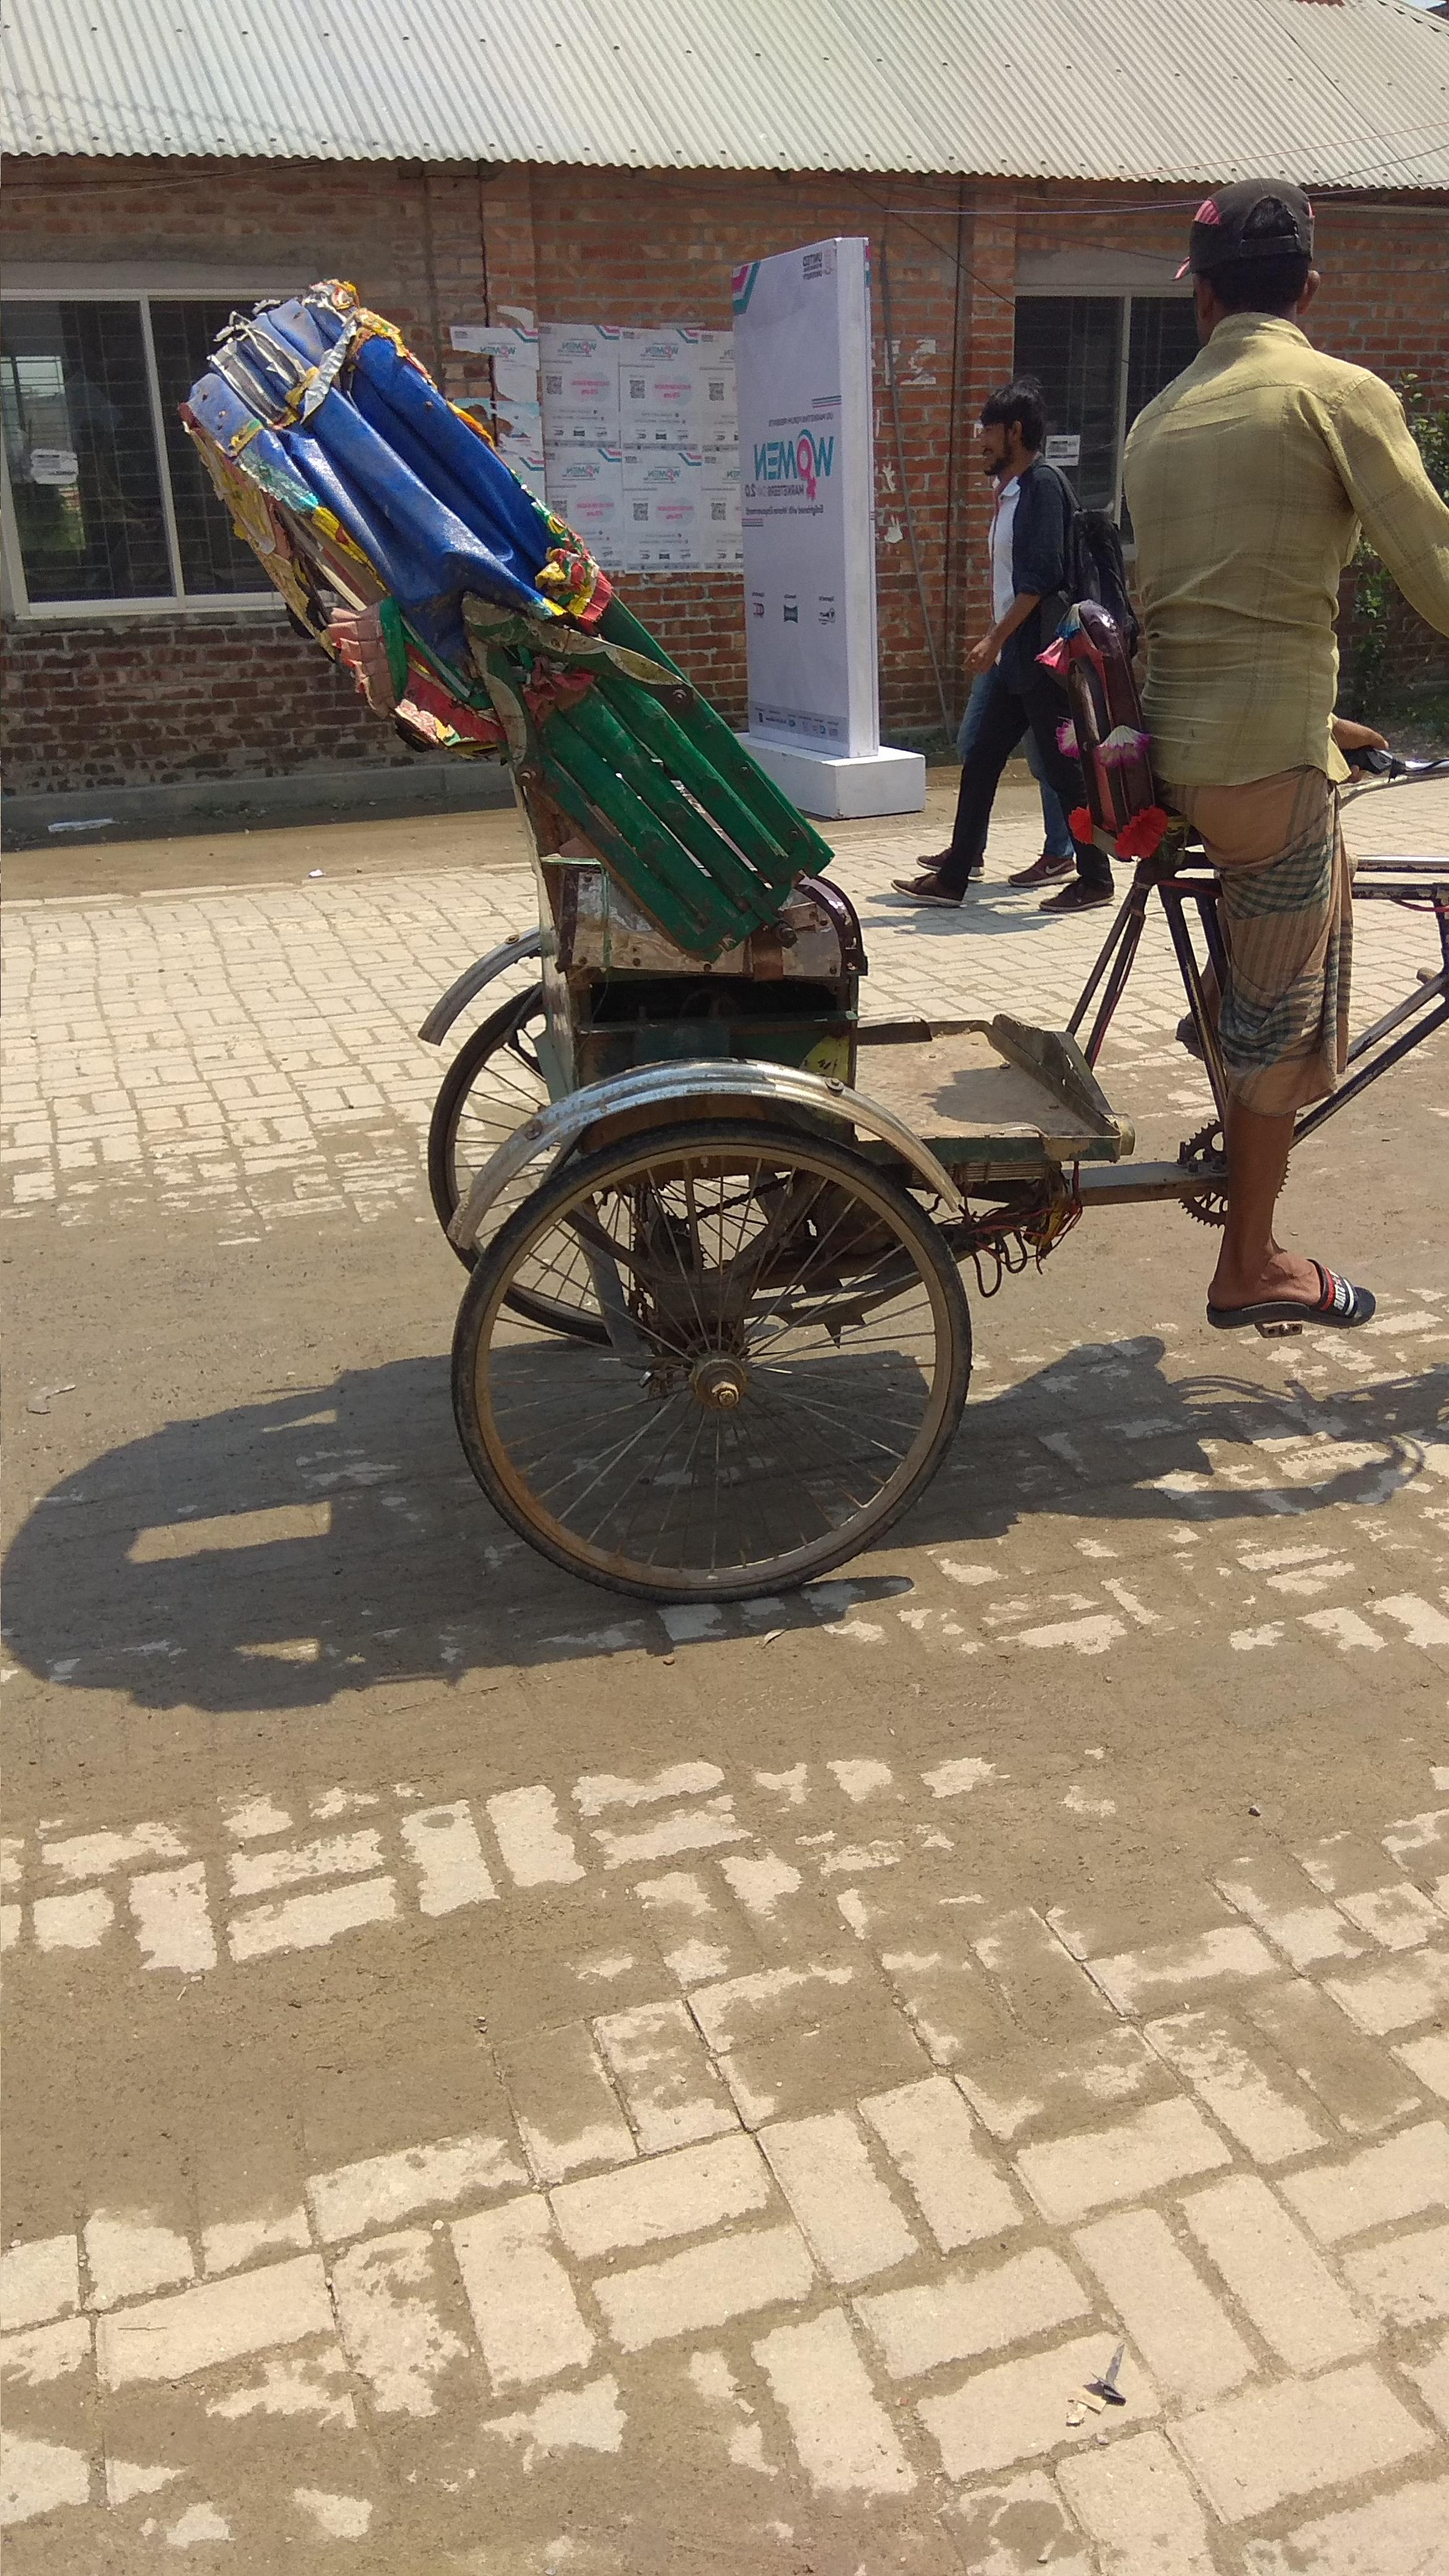Rickshaw: (168, 239, 1444, 1718)
